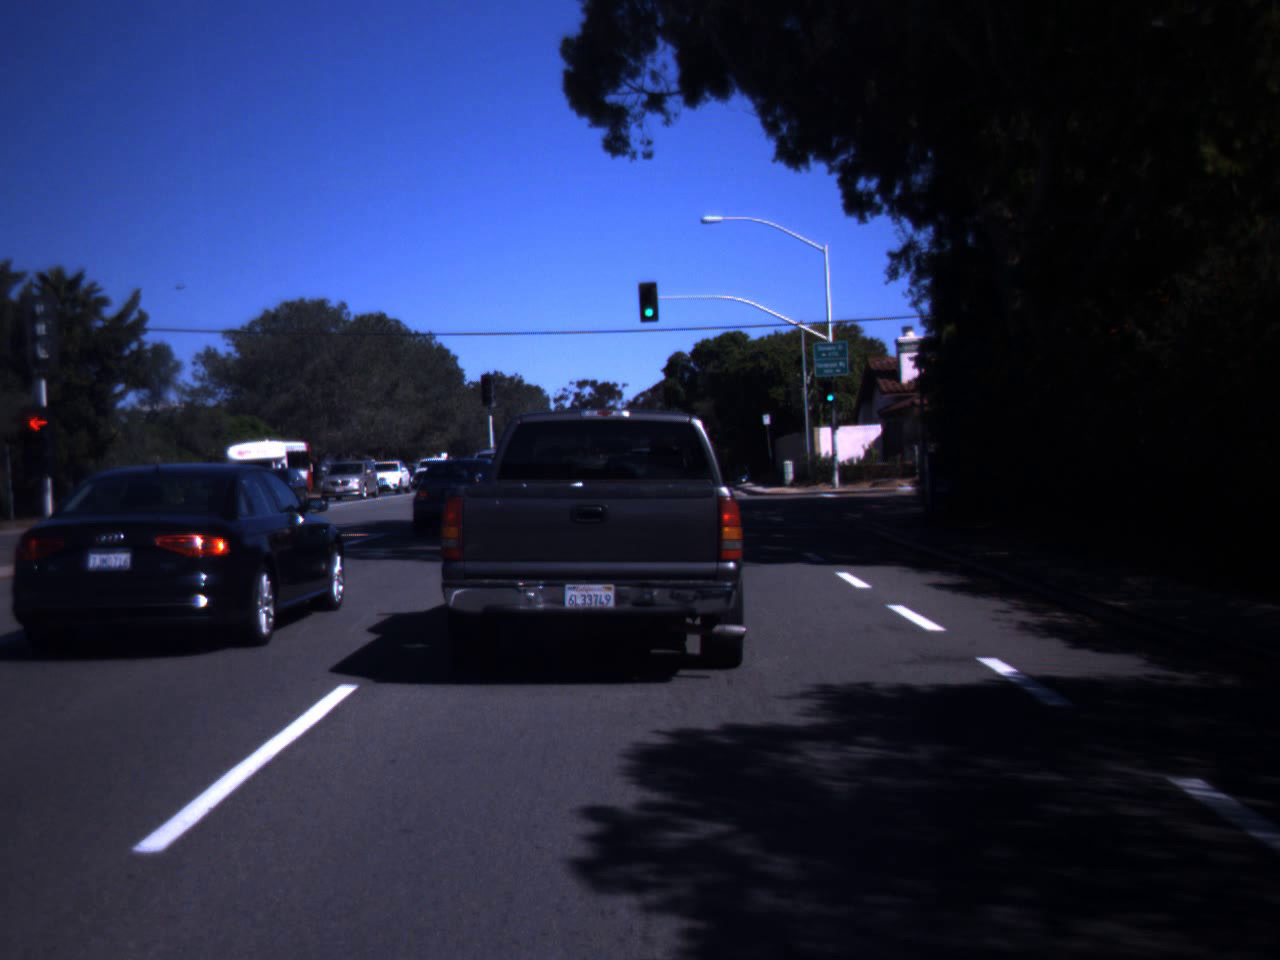go: (640, 284, 658, 319), (824, 382, 836, 402)
stop: (15, 416, 60, 452)
